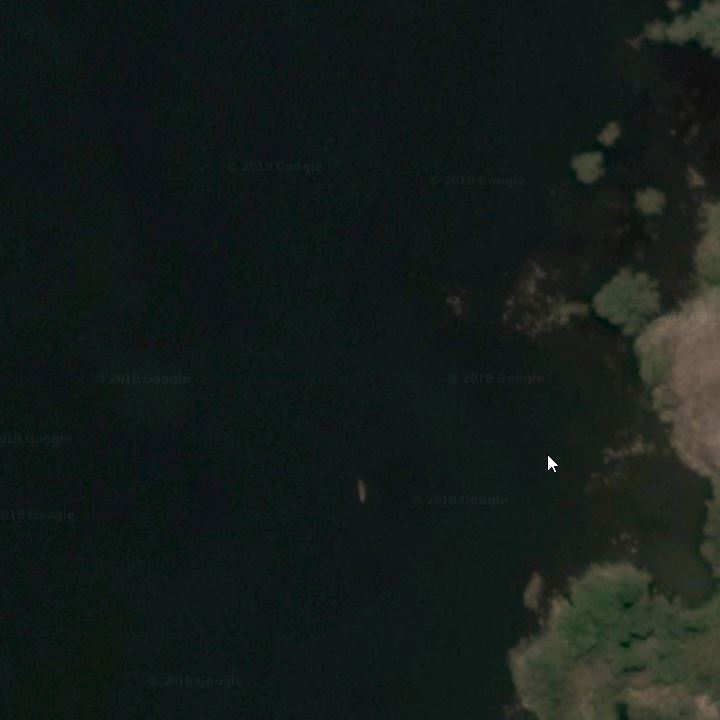boat: (354, 472, 373, 509)
